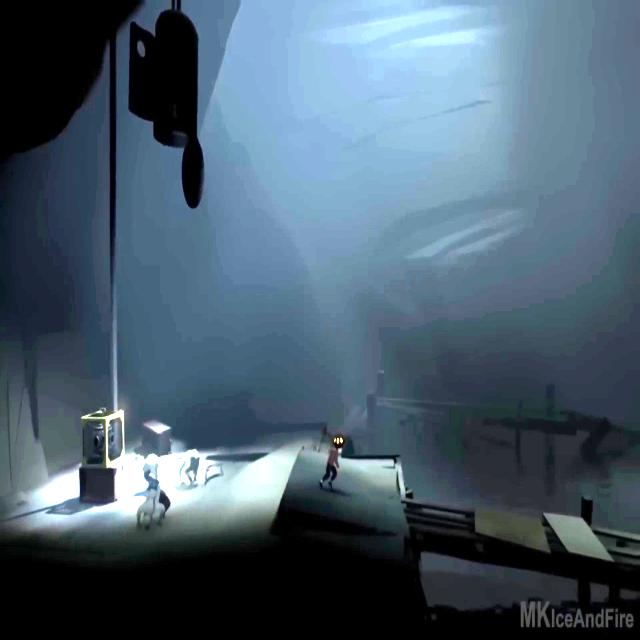boy: (319, 448, 342, 491)
zombie: (136, 486, 170, 525), (179, 448, 200, 488), (142, 454, 160, 478)
